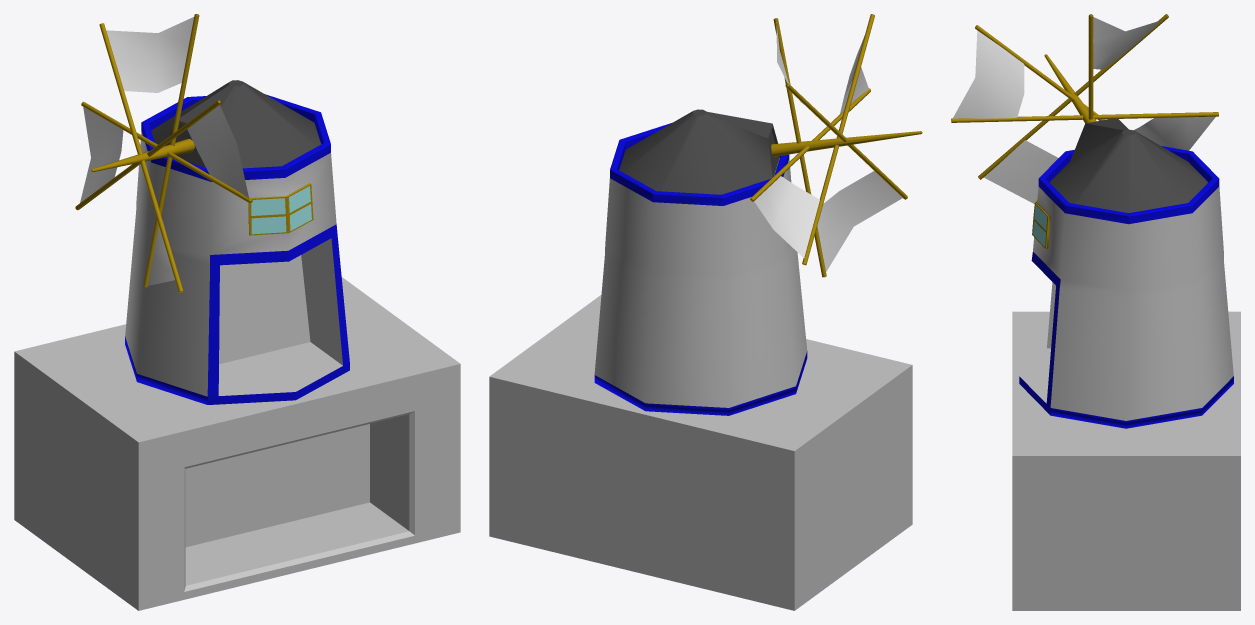
The model's file is Moinho.fbx.
3 views of the same model, side by side, from view 1: azimuth 30°, elevation 25°; view 2: azimuth 150°, elevation 25°; view 3: azimuth 270°, elevation 25° (orthographic). The views are drawn at different scales.
Visible parts, largest first — view 1: Suporte, Moinho, pPlane7, pPlane6, pPlane4, pCylinder6, pCylinder3, pCylinder4, pCylinder5, pCylinder2, pPlane5; view 2: Suporte, Moinho, pPlane5, pPlane4, pCylinder5, pCylinder2, pCylinder3, pCylinder6, pCylinder4, pPlane6; view 3: Moinho, Suporte, pPlane6, pPlane5, pPlane4, pPlane7, pCylinder4, pCylinder6, pCylinder3, pCylinder5, pCylinder2.
Boxes of the visible parts, <box> form: Suporte: <box>14,277,460,610</box>; Moinho: <box>125,80,349,404</box>; pPlane7: <box>106,17,193,92</box>; pPlane6: <box>187,105,248,198</box>; pPlane4: <box>80,107,123,202</box>; pCylinder6: <box>99,23,183,292</box>; pCylinder3: <box>143,14,199,287</box>; pCylinder4: <box>81,101,252,203</box>; pCylinder5: <box>75,100,221,210</box>; pCylinder2: <box>91,139,194,172</box>; pPlane5: <box>147,224,174,285</box>; Suporte: <box>489,295,912,610</box>; Moinho: <box>594,109,807,415</box>; pPlane5: <box>817,171,902,271</box>; pPlane4: <box>754,176,819,257</box>; pCylinder5: <box>802,14,874,265</box>; pCylinder2: <box>771,131,922,156</box>; pCylinder3: <box>773,18,826,277</box>; pCylinder6: <box>785,83,907,199</box>; pCylinder4: <box>750,88,870,201</box>; pPlane6: <box>840,35,868,113</box>; Moinho: <box>1019,118,1233,428</box>; Suporte: <box>1012,311,1240,610</box>; pPlane6: <box>953,30,1024,118</box>; pPlane5: <box>984,140,1058,203</box>; pPlane4: <box>1134,116,1215,150</box>; pPlane7: <box>1093,17,1160,69</box>; pCylinder4: <box>951,112,1218,122</box>; pCylinder6: <box>978,14,1168,179</box>; pCylinder3: <box>1088,14,1093,119</box>; pCylinder5: <box>975,25,1104,120</box>; pCylinder2: <box>1044,54,1096,123</box>.
Bounding box in the file's own units: 2.18 × 3.21 × 1.69.
